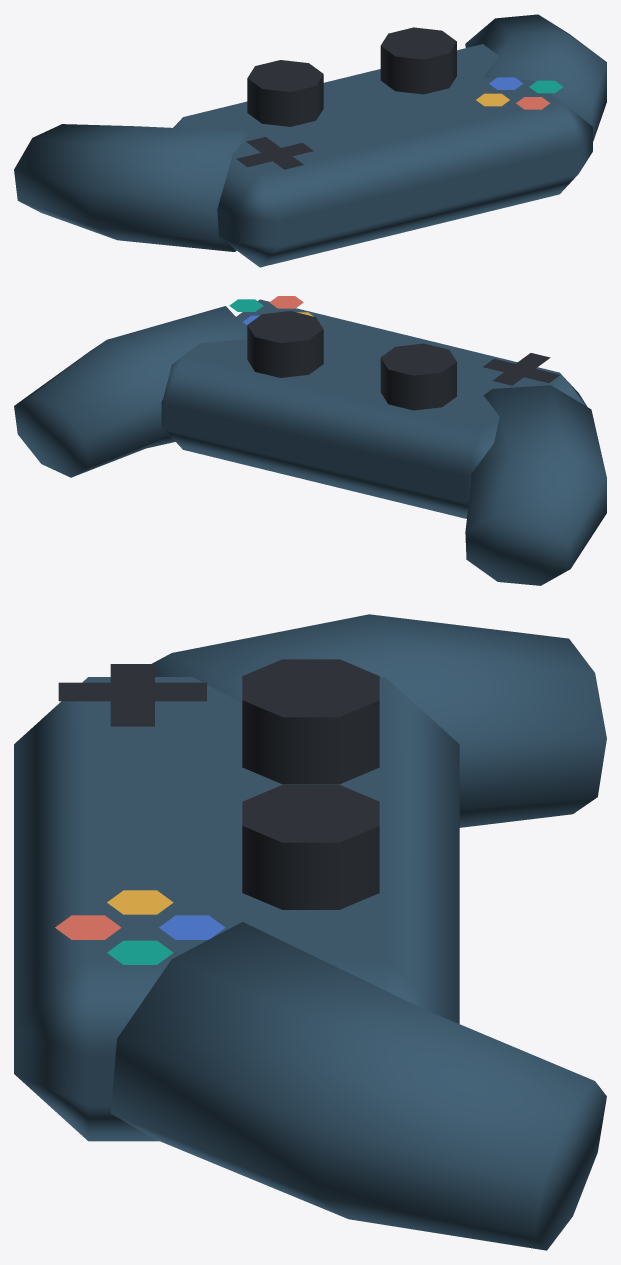
The model's file is CM_Product_GameController.fbx.
The picture shows the model from 3 angles, top to bottom: view 1: azimuth 30°, elevation 25°; view 2: azimuth 150°, elevation 25°; view 3: azimuth 270°, elevation 25°; orthographic projection. The views are drawn at different scales.
Visible parts, largest first — view 1: GameController; view 2: GameController; view 3: GameController.
Part boxes in pixels (box(x1,y1,x2,y2)): GameController: box(14, 14, 606, 267); GameController: box(14, 296, 606, 585); GameController: box(14, 614, 606, 1250).
Bounding box in the file's own units: 1.67 × 0.7984 × 0.3928.
1 material, 1 textured.
